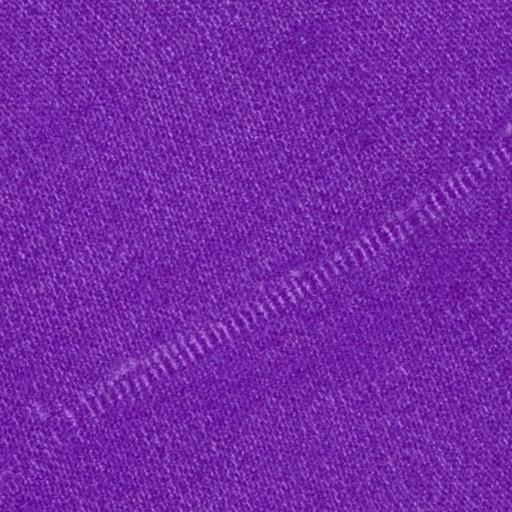slub: (62, 128, 512, 441)
